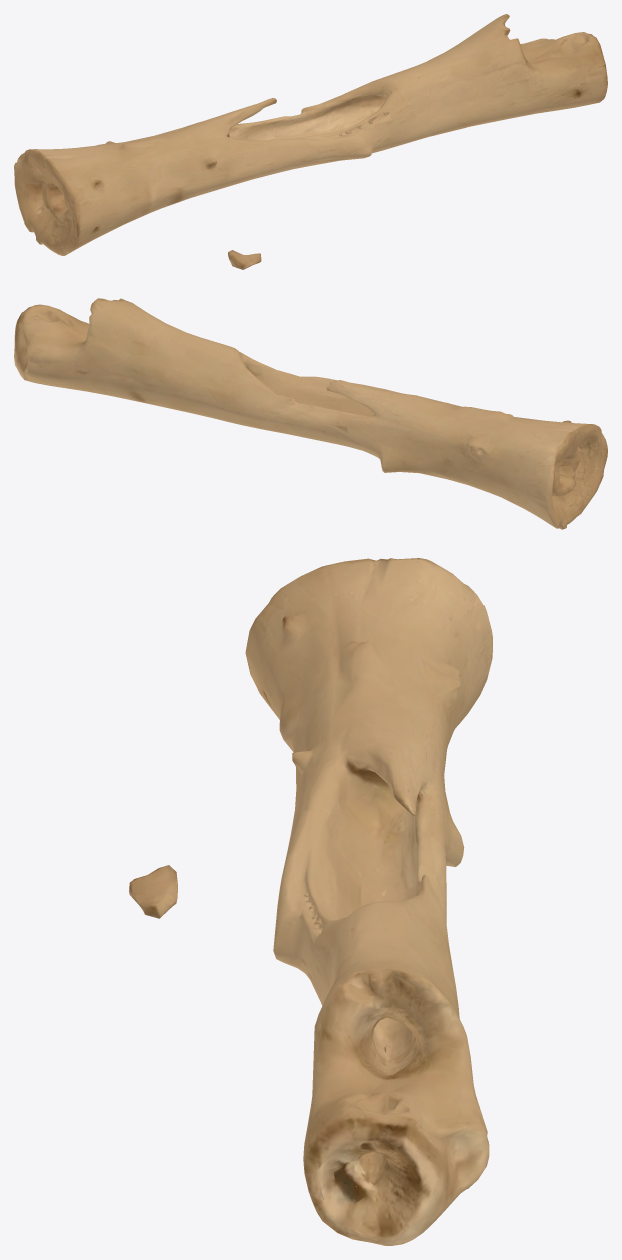
File: prop-broken-twig.glb
3 renders of one model, top to bottom at view 1: azimuth 30°, elevation 25°; view 2: azimuth 150°, elevation 25°; view 3: azimuth 270°, elevation 25°, orthographic. The views are drawn at different scales.
Size of the model in its own units: 1.91 by 0.4052 by 0.5404.
1 material, 1 textured.
